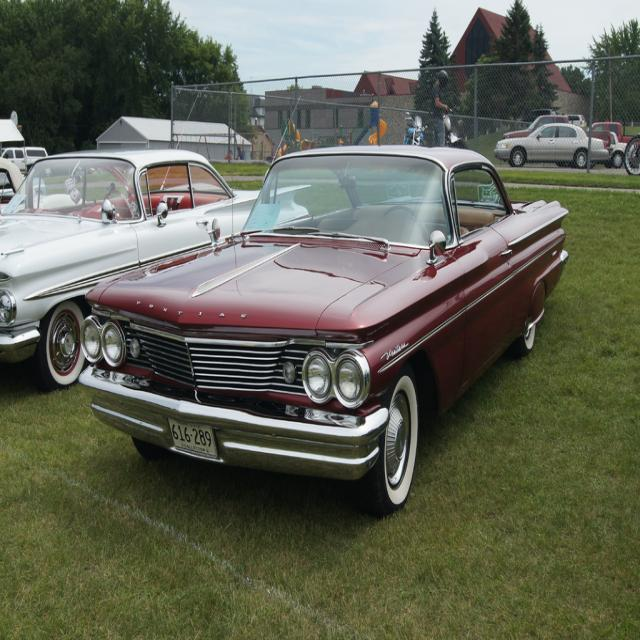car: (78, 97, 569, 507)
